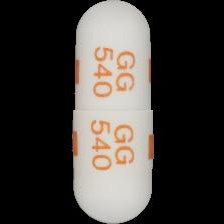0781-2824: (0, 0, 224, 224)
